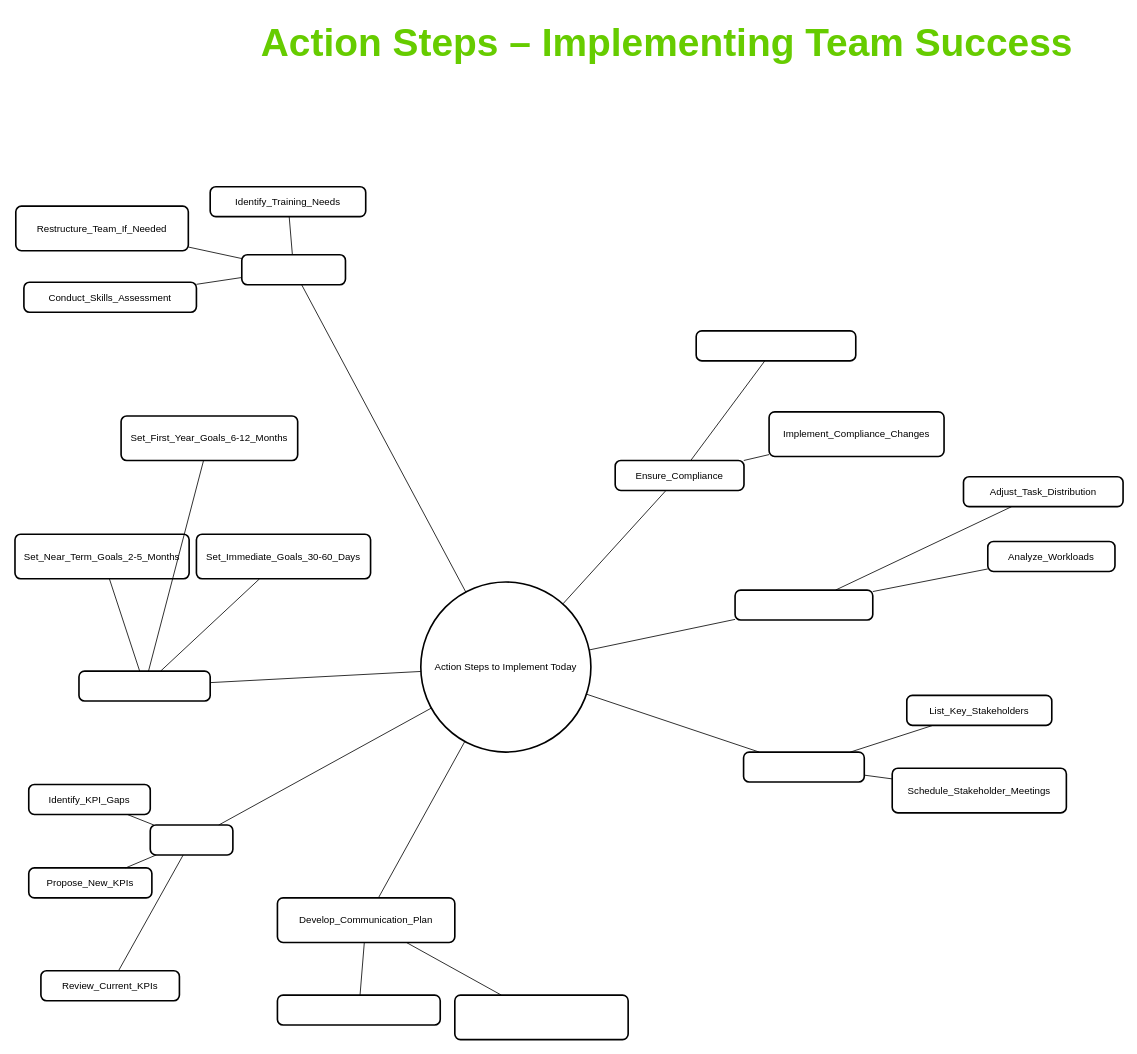
This 1137x1054 diagram has some shape labels left out. Each missing label, with the box of its shape:
Assess_KPIs: (149, 824, 233, 855)
Audit_Current_Processes: (695, 330, 856, 361)
Balance_Productivity: (734, 589, 873, 620)
Create_Update_Schedule: (276, 994, 441, 1025)
Design_Progress_Report_Templates: (454, 994, 629, 1040)
Evaluate_Team: (241, 254, 346, 285)
Map_Stakeholders: (742, 751, 865, 782)
Plan_By_Timeframe: (78, 670, 211, 701)
